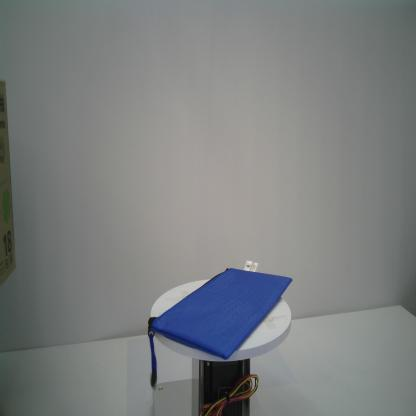Stationery: (148, 255, 294, 393)
